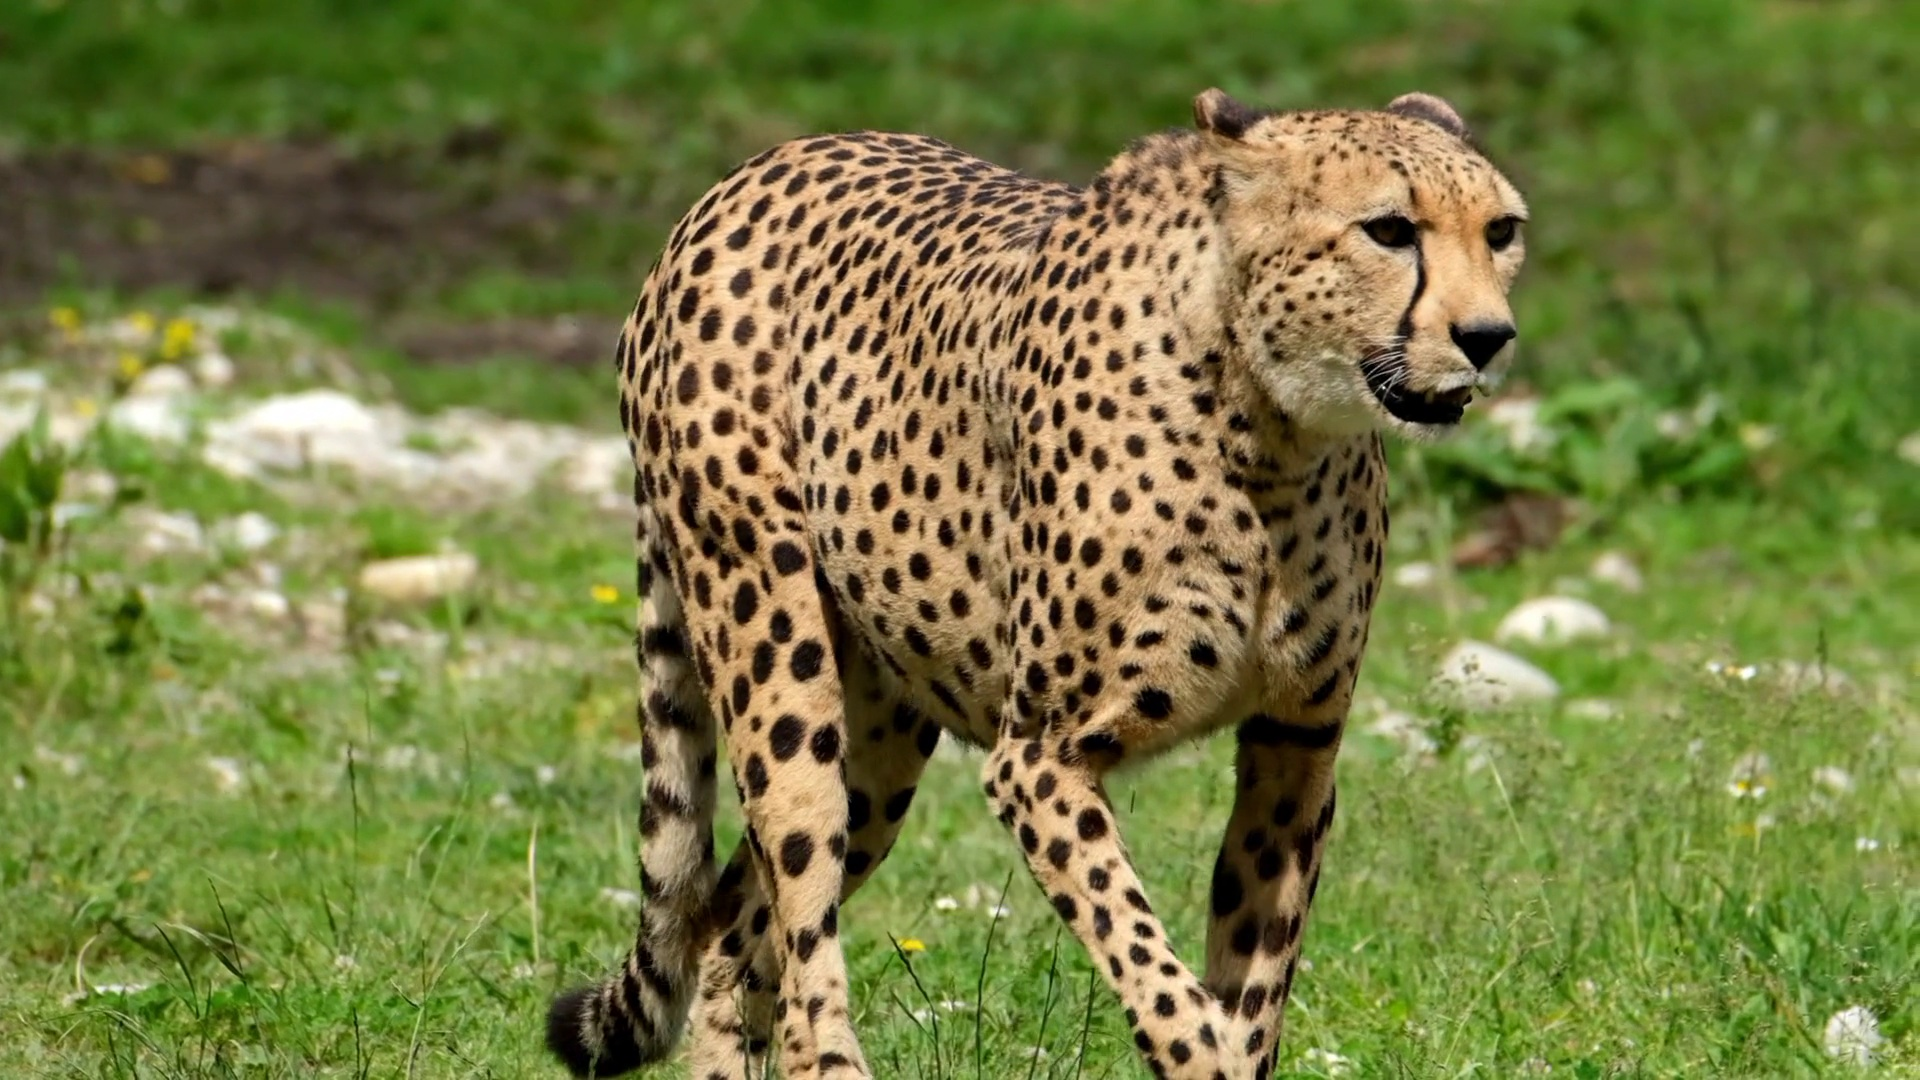Cheetah: (541, 79, 1536, 1080)
